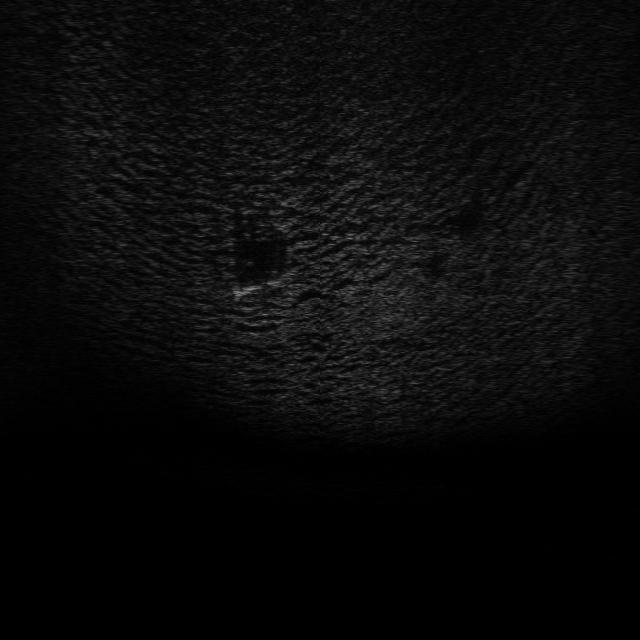plane: (224, 266, 294, 298)
